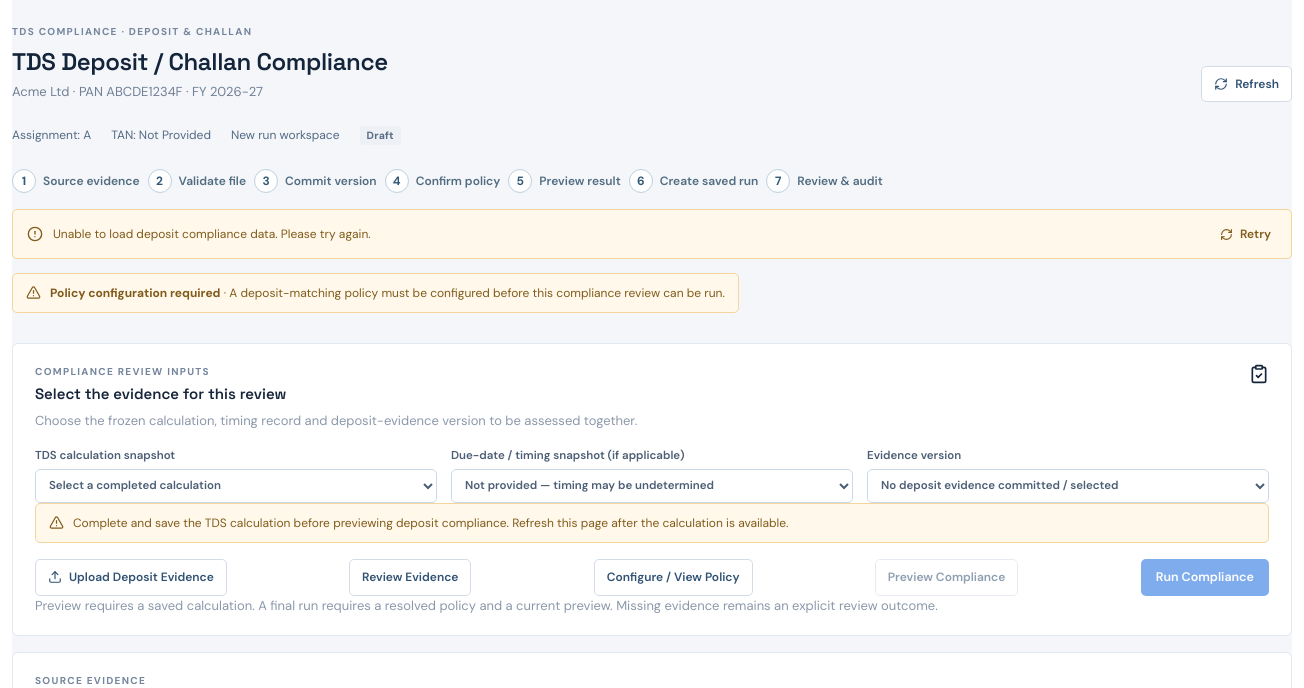
it: network error supports retry
Click the button "Retry": (1246, 234) [1214, 221, 1277, 247]
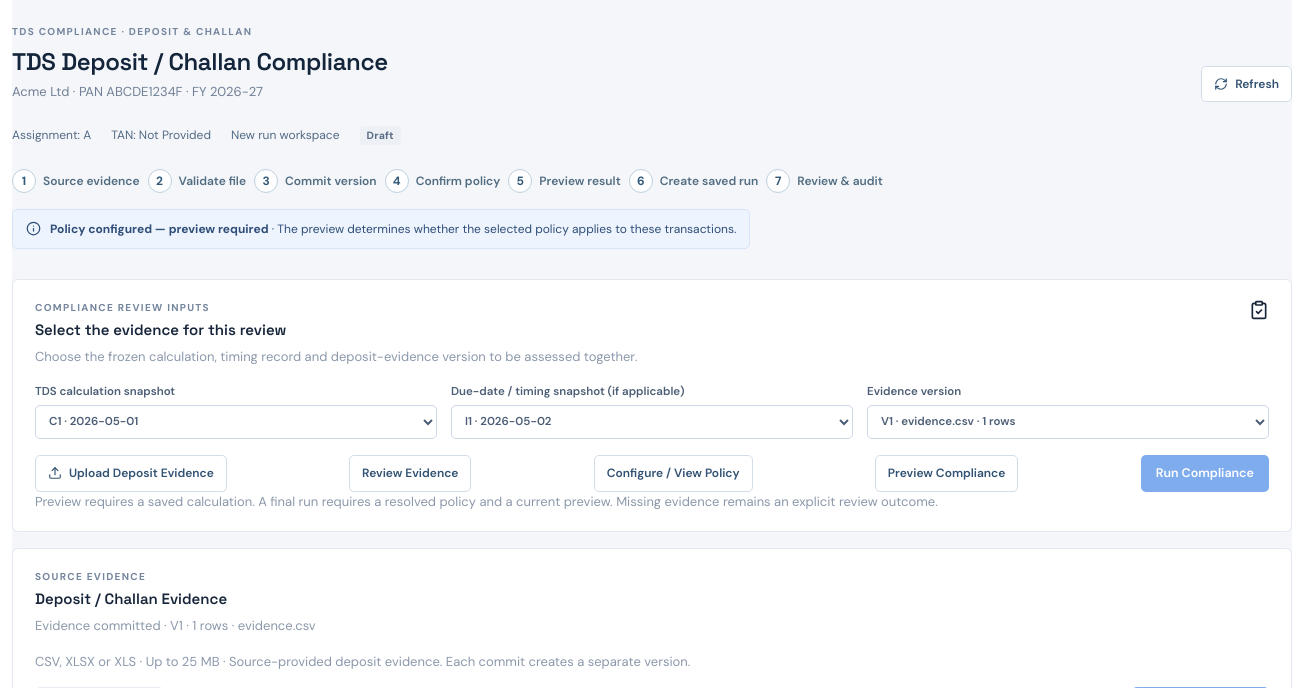
Expected: the text "Unable to load deposit compliance data." is gone
